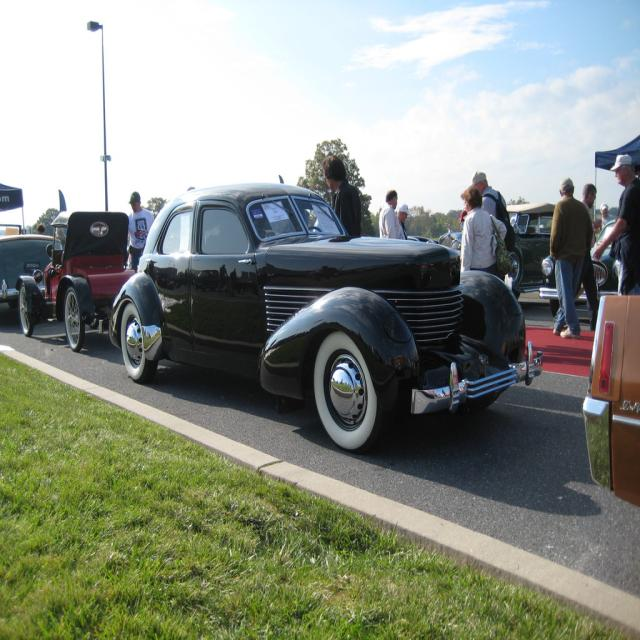car: (106, 177, 541, 454)
